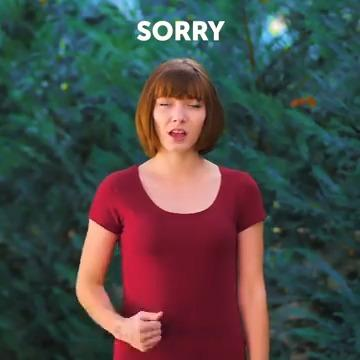sorry: (69, 281, 181, 360)
